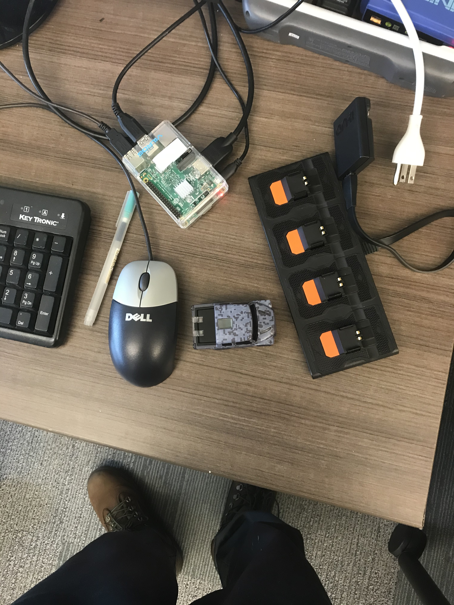MXT: (192, 298, 278, 350)
